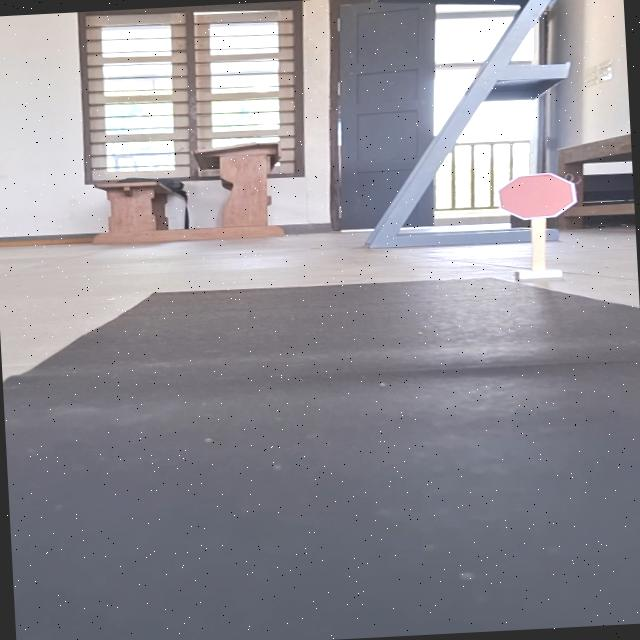Stop: (491, 170, 582, 223)
